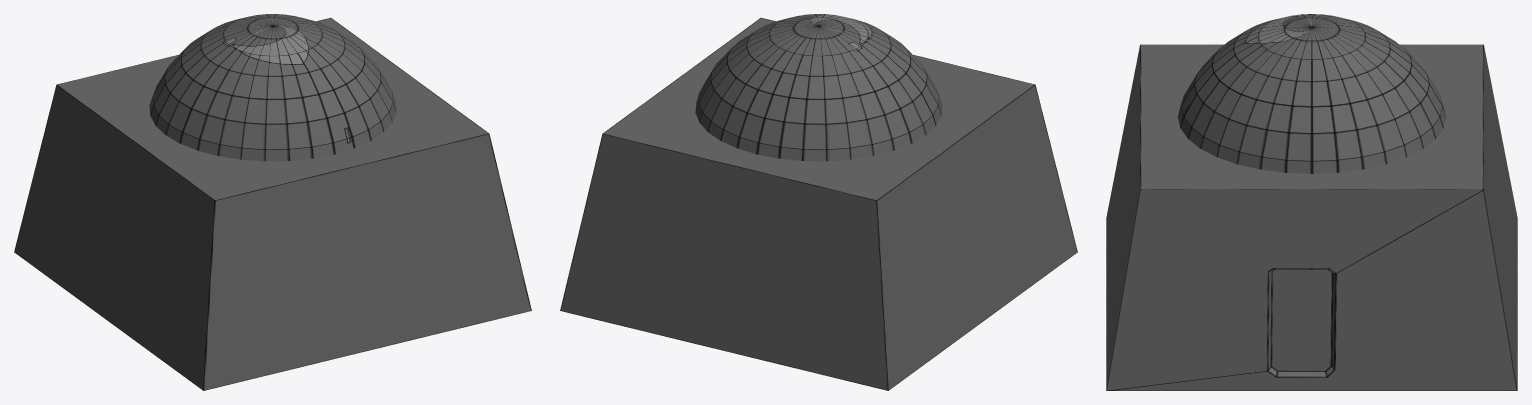
Rendered from tatooine_building.gltf.
The picture shows the model from 3 angles, left to right: view 1: azimuth 30°, elevation 25°; view 2: azimuth 150°, elevation 25°; view 3: azimuth 270°, elevation 25°; orthographic projection. The views are drawn at different scales.
Visible parts, largest first — view 1: Cube; view 2: Cube; view 3: Cube.
Boxes of the visible parts, x1,y1,x2,y2 form: Cube: (14, 14, 531, 390); Cube: (560, 14, 1077, 390); Cube: (1106, 14, 1517, 390).
Bounding box in the file's own units: 2 × 1.49 × 2.
Materials: 1 (1 with a texture image).
